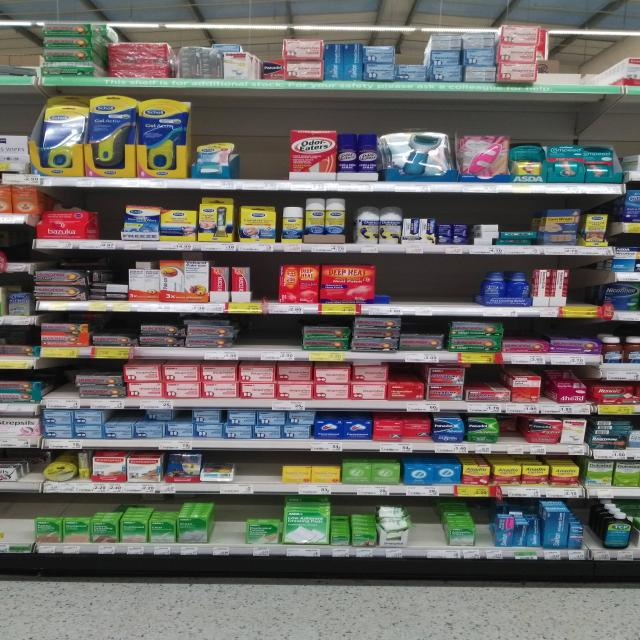empty: (533, 25, 618, 86), (379, 266, 485, 310), (231, 116, 292, 180), (239, 312, 305, 353), (574, 500, 614, 553), (88, 188, 125, 242), (207, 502, 251, 547), (411, 501, 444, 554), (238, 445, 284, 483), (3, 490, 37, 539), (3, 223, 38, 269), (570, 259, 601, 303), (44, 360, 73, 406), (473, 493, 494, 549), (253, 255, 275, 301)
